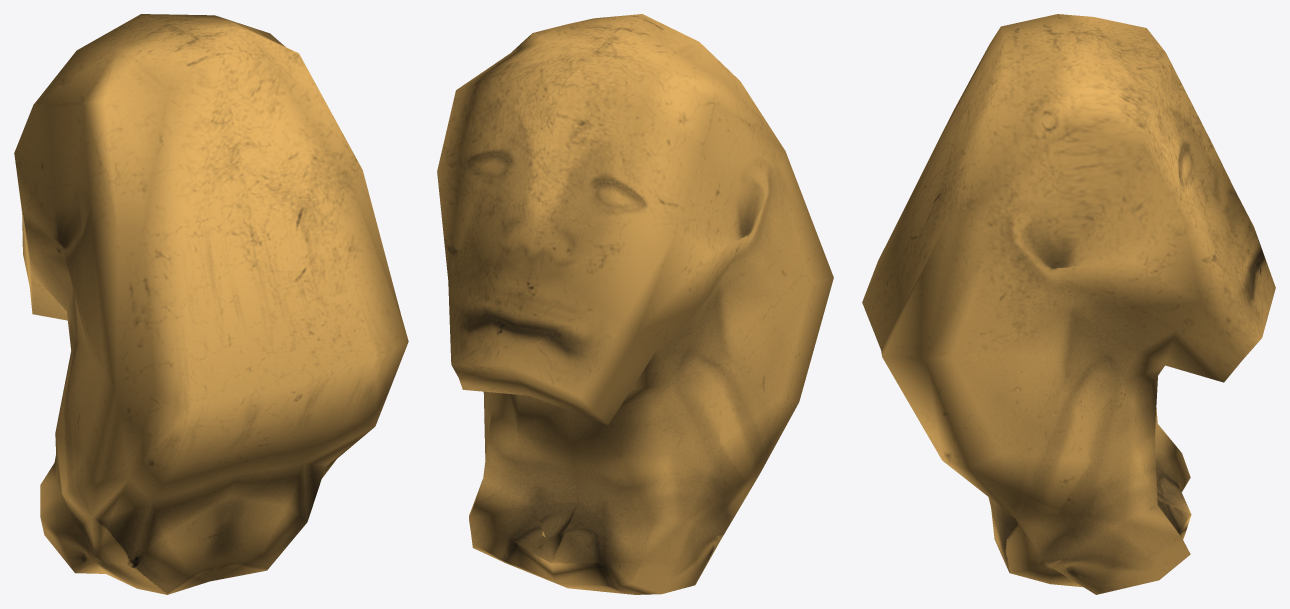
The model's file is Dom_Idol.fbx.
3 renders of one model, left to right at view 1: azimuth 30°, elevation 25°; view 2: azimuth 150°, elevation 25°; view 3: azimuth 270°, elevation 25°, orthographic. The views are drawn at different scales.
Visible parts, largest first — view 1: Idol2; view 2: Idol2; view 3: Idol2.
Part boxes in pixels (x1,y1,x2,y2): Idol2: (14,14,408,594); Idol2: (437,14,833,594); Idol2: (862,14,1275,594).
Bounding box in the file's own units: 2.25 × 4 × 2.84.
1 material, 1 textured.
